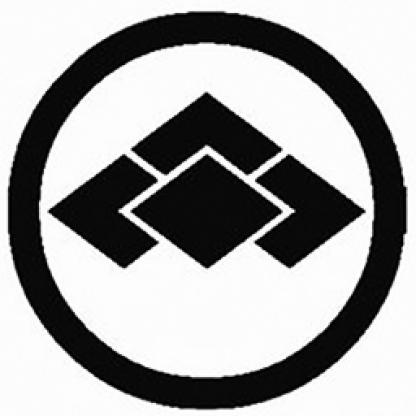kamon: (5, 8, 408, 414)
